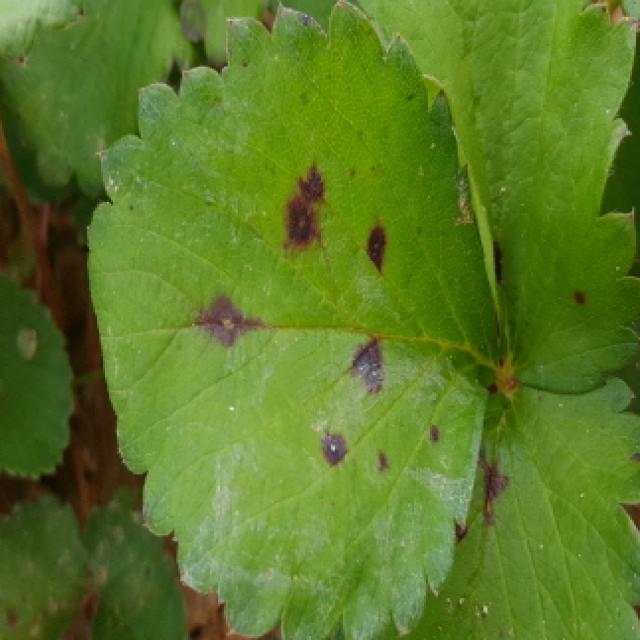Leaf Spot: (85, 0, 508, 640), (355, 0, 640, 396), (372, 374, 640, 640), (0, 492, 100, 640)
